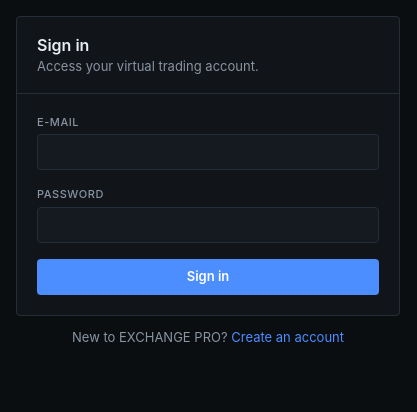
LoginPage › shows the server error for wrong credentials
Step 1. Type "asha@example.com" into the field labelled "E-mail" → (208,152), box [37,134,379,170]
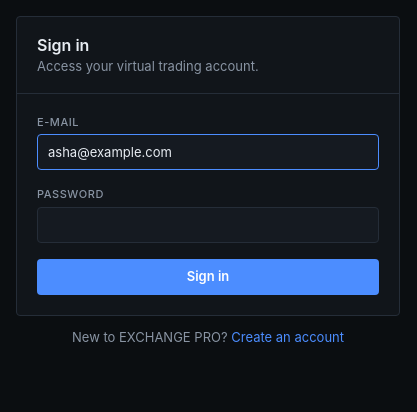
Step 2. Type "WrongPass1" into the password field labelled "Password" → (208,224), box [37,206,379,242]
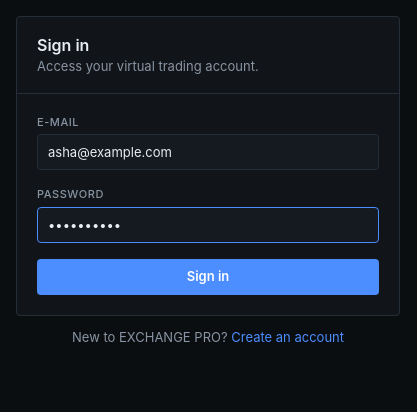
Step 3. Click the button "Sign in" → (208,276), box [37,258,379,294]
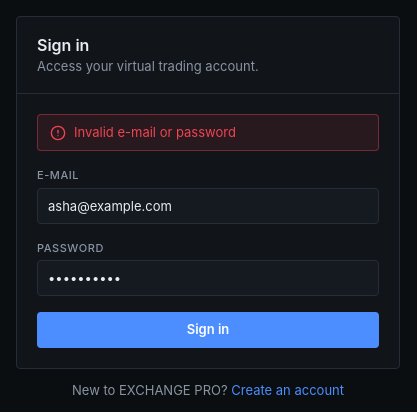
Check: the message reads "Invalid e-mail or password", box [74,124,236,140]
